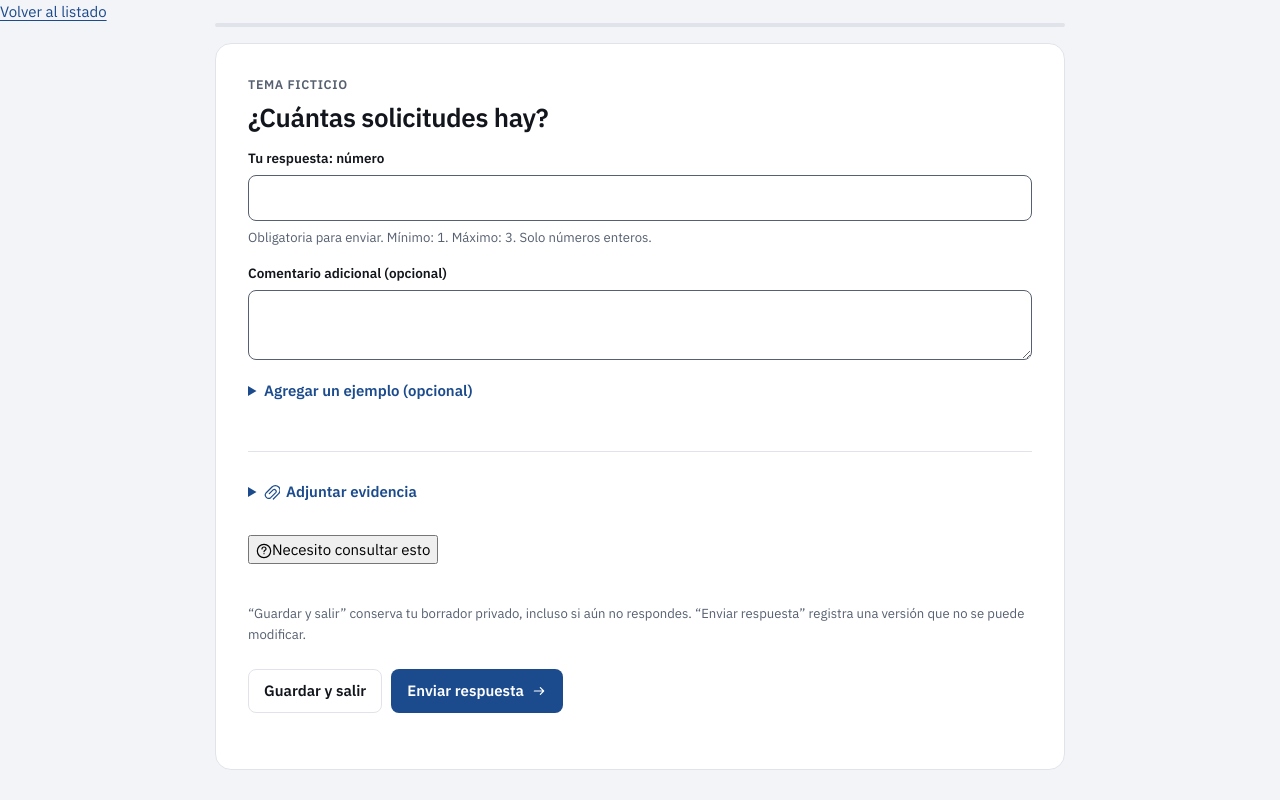
Guardar y salir conserva el borrador antes de continuar el cierre de sesión solicitado
This screenshot has width=1280, height=800.
Type "2" into the field labelled "Tu respuesta: número" at (640, 198), box [248,175,1032,221]
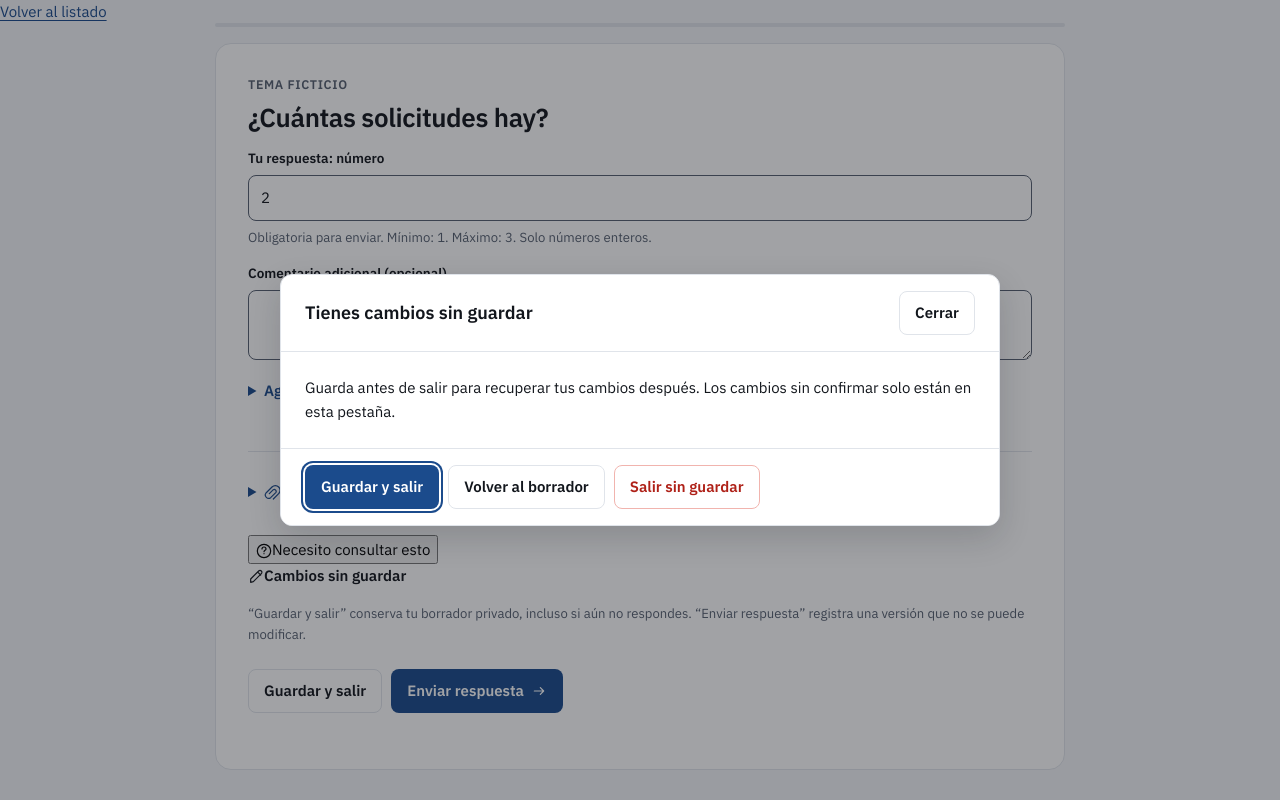
Click the button "Guardar y salir" at (372, 487), box [305,465,439,509]
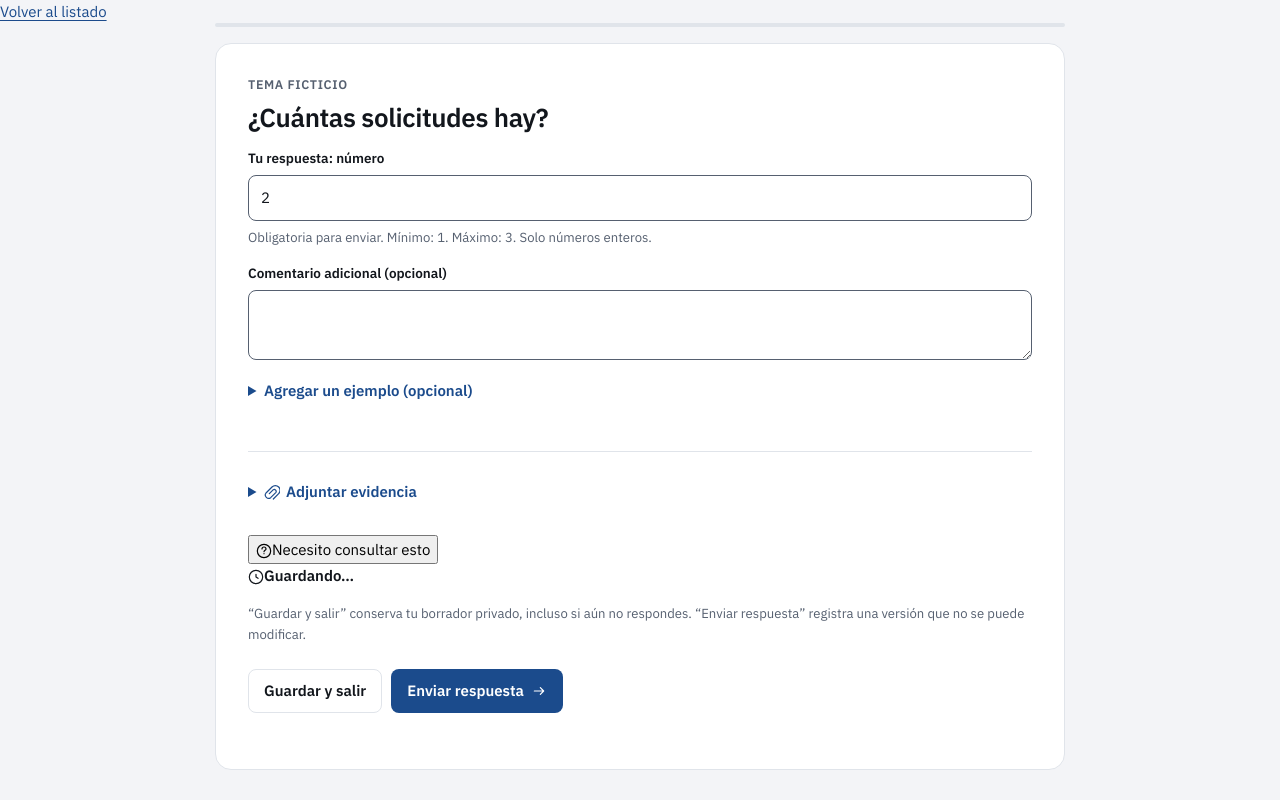
Result: the dialog is gone
